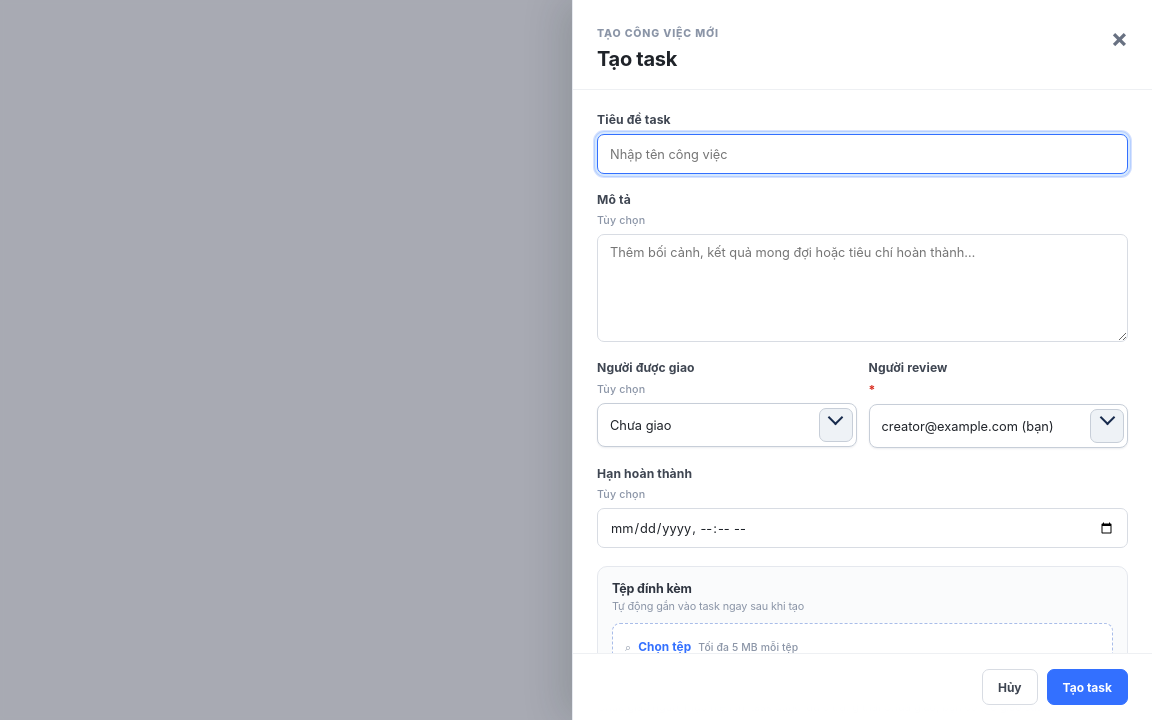
TaskAssignmentDrawer › defaults review to the creator and switches between create and assign copy
Expected: the dialog is shown, [572,0,1151,719]
Expected: the button "Tạo task" is shown, [1047,669,1128,705]
In the field labelled "Tiêu đề task": (862, 154) [597,134,1128,174], type "Rà soát hồ sơ"
(page scrolled)
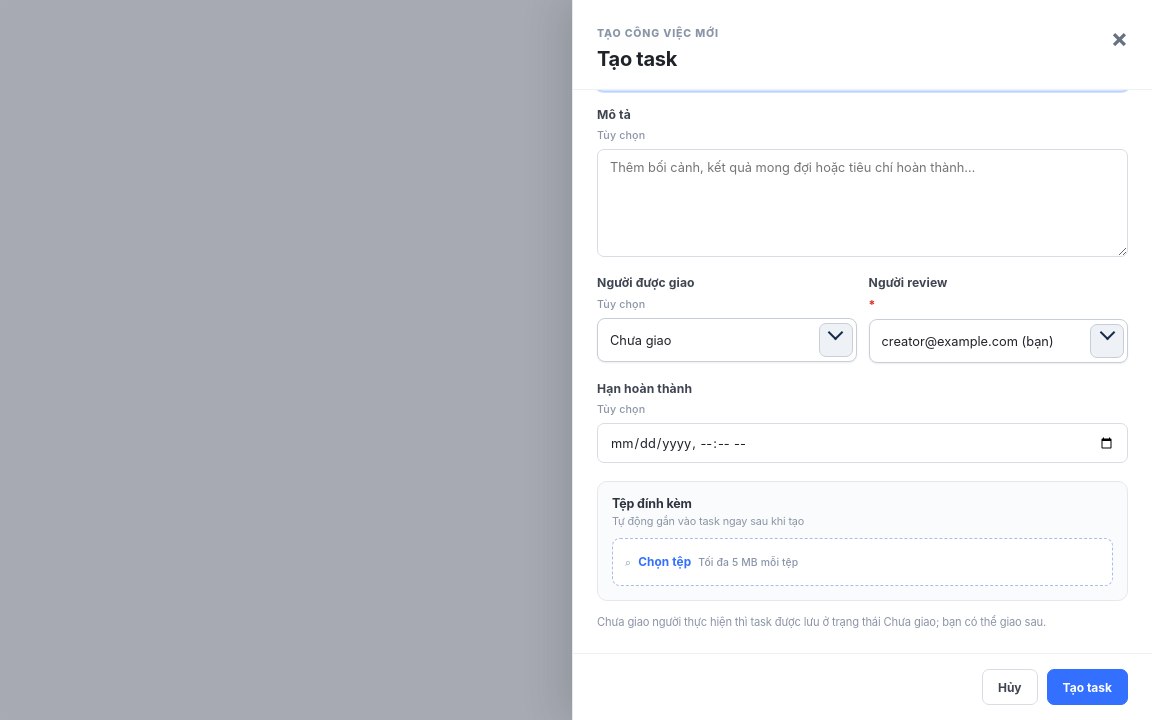
Submit the form, box [573,5,1151,719]
In the dropdown labelled "Người được giao": (708, 340) [598,319,818,361], type "employee-id"
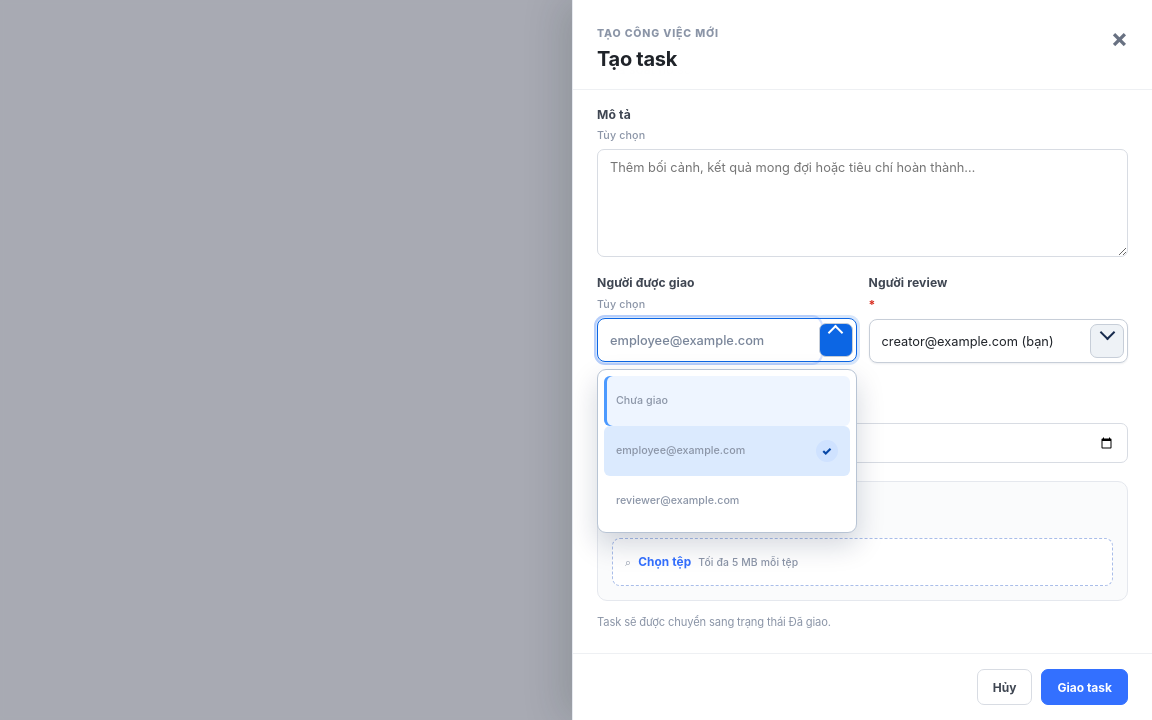
Now the button "Giao task" is shown, box [1042,669,1128,705]
